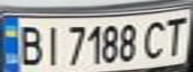1: (84, 21, 103, 65)
7: (63, 21, 84, 66)
8: (118, 20, 142, 63), (100, 21, 121, 64)
B: (12, 21, 45, 66)
C: (139, 17, 172, 61)
I: (39, 21, 66, 68)
T: (160, 14, 190, 57)
